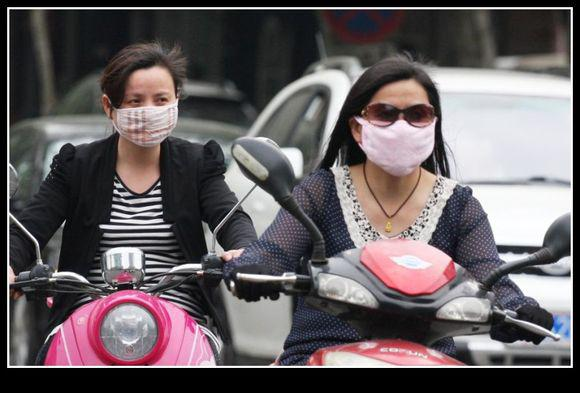OK: (364, 98, 435, 173), (112, 85, 179, 147)
